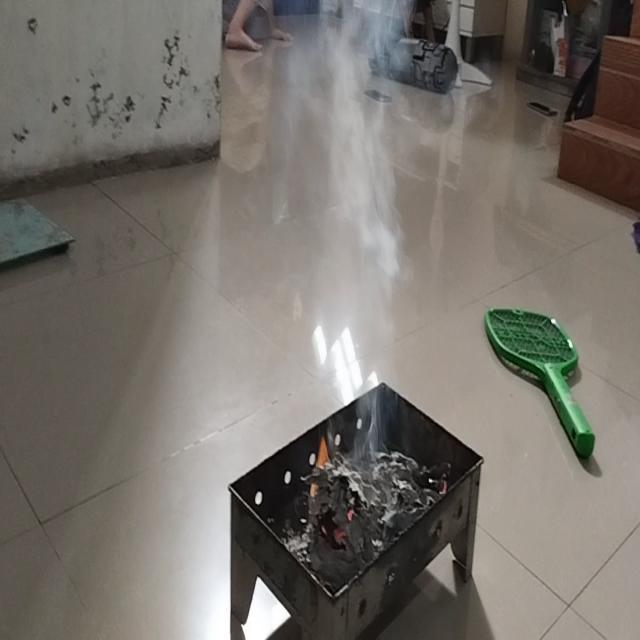smoke: (289, 0, 416, 302)
